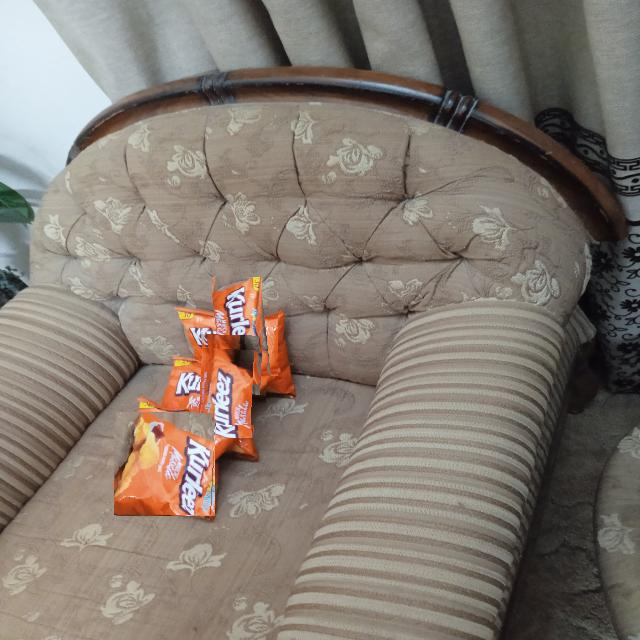Plastic: (114, 413, 216, 515), (196, 293, 278, 376), (189, 347, 268, 425)
